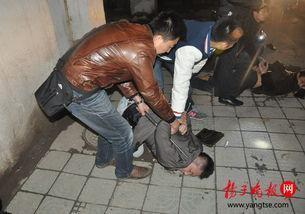Fall-Detected: (118, 89, 218, 187)
